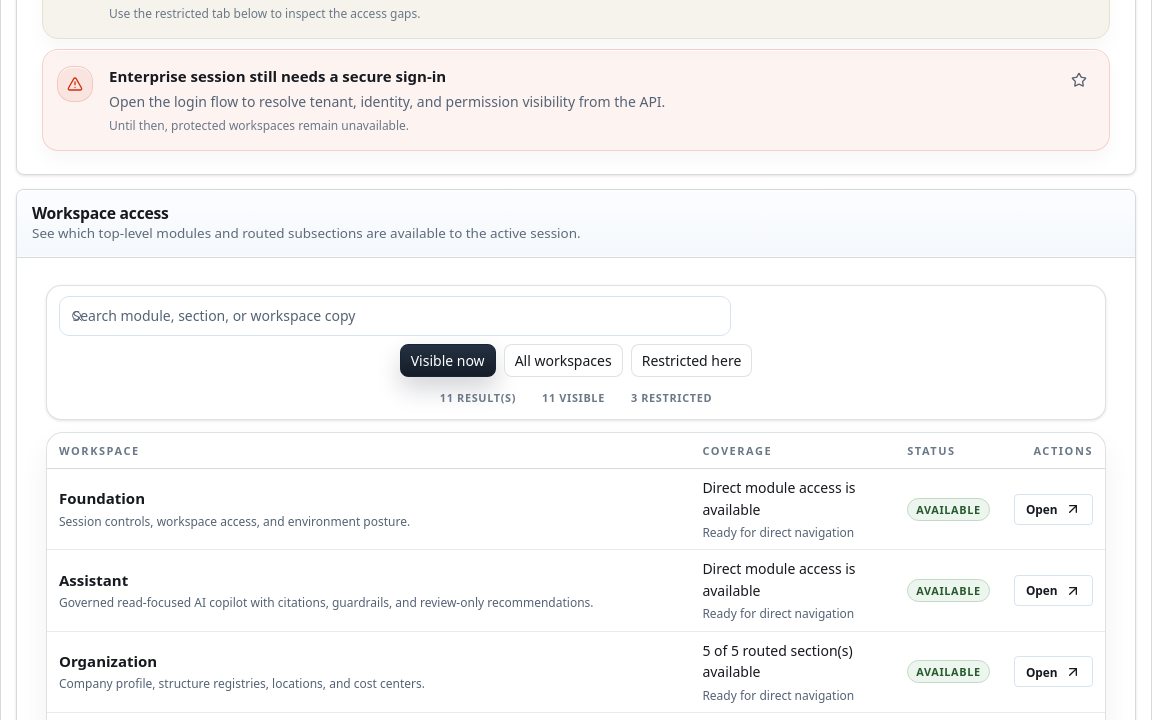
FoundationOverviewPage › switches the workspace collection between visible and restricted views
(page scrolled)
Expected: the text "Organization" is shown, [59,651,157,671]
Click the tab "Restricted here" at [692, 361], box [631,344,752,378]
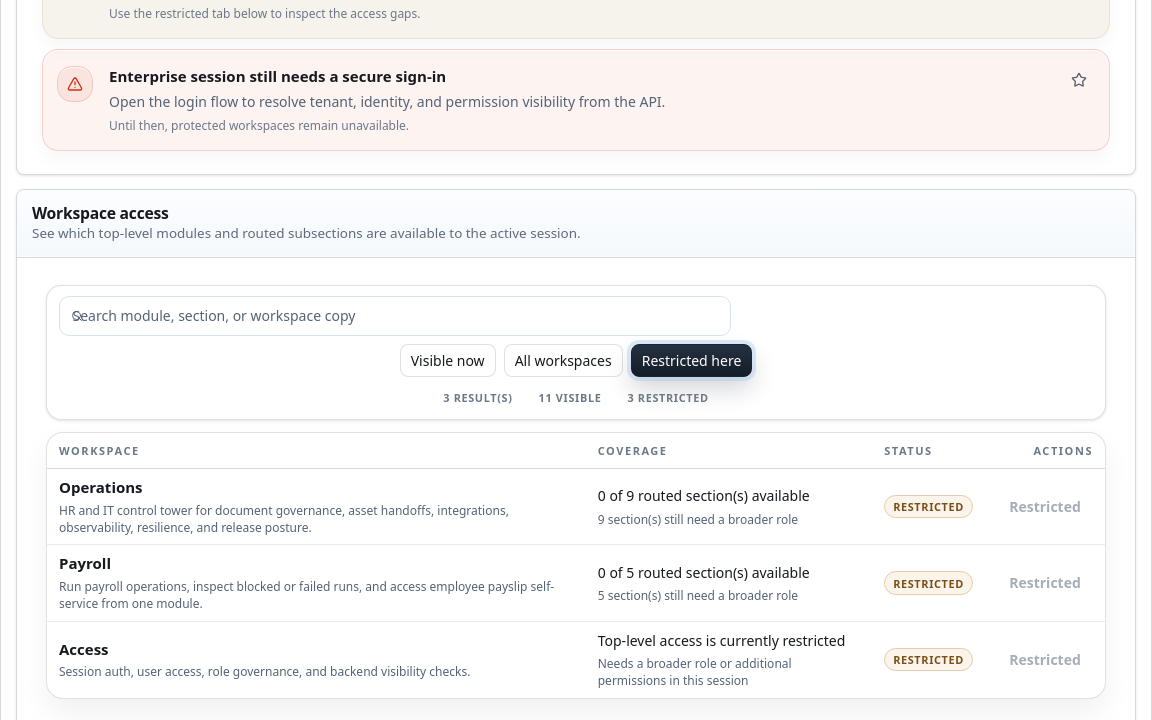
Expected: the text "Access" is shown, [59,639,108,659]
Expected: the text "Needs a broader role" is shown, [598,655,792,689]
Expected: the text "Organization" is gone
